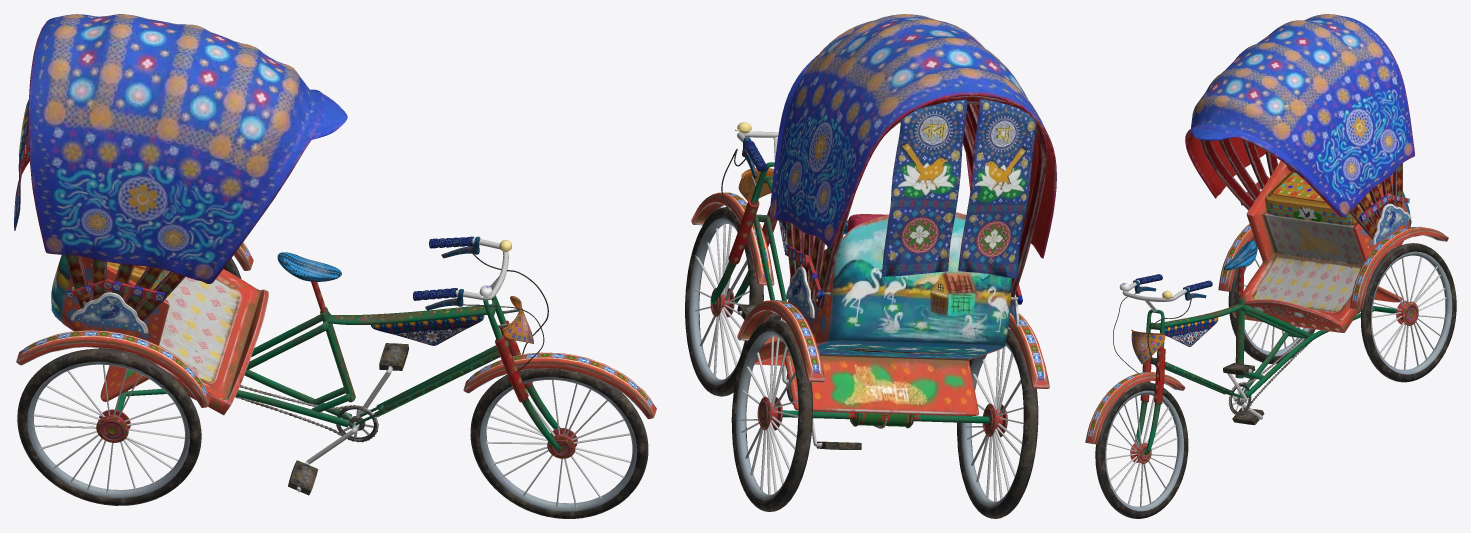
File: rickshaw.glb
3 renders of one model, left to right at view 1: azimuth 30°, elevation 25°; view 2: azimuth 150°, elevation 25°; view 3: azimuth 270°, elevation 25°, orthographic. The views are drawn at different scales.
Parts seen in each view (by area): view 1: canopy_lambert31_0, passenger_seat_lambert33_0, Chassis_lambert28_0, tire_lambert2_0 (×2), metalRim_lambert5_0 (×2), wires (×2), rightWheelCover_lambert13_0, frontWheelCover_lambert13_0, canopyBars_lambert32_0, right_decoration_lambert19_0, middle_decoration_lambert18_0, driver_seat_lambert7_0 (+4 smaller); view 2: canopy_lambert31_0, passenger_seat_lambert33_0, backCloth_lambert30_0, tire_lambert2_0 (×3), wires (×3), metalRim_lambert5_0 (×3), canopyBars_lambert32_0, Chassis_lambert28_0, leftWheelCover_lambert13_0, frontWheelCover_lambert13_0, rightWheelCover_lambert13_0, wheelcenter_lambert8_0 (×2) (+4 smaller); view 3: canopy_lambert31_0, passenger_seat_lambert33_0, tire_lambert2_0 (×3), Chassis_lambert28_0, canopyBars_lambert32_0, wires (×2), metalRim_lambert5_0 (×2), seatCushion_lambert20_0, leftWheelCover_lambert13_0, frontWheelCover_lambert13_0, middle_decoration_lambert18_0, left_decoration_lambert19_0 (+5 smaller).
Boxes of the visible parts, x1=… form: canopy_lambert31_0: x1=28, y1=14, x2=347, y2=283; passenger_seat_lambert33_0: x1=51, y1=255, x2=268, y2=415; Chassis_lambert28_0: x1=116, y1=281, x2=562, y2=450; tire_lambert2_0 (×2): x1=17, y1=348, x2=648, y2=518; metalRim_lambert5_0 (×2): x1=27, y1=362, x2=636, y2=511; wires (×2): x1=33, y1=365, x2=630, y2=508; rightWheelCover_lambert13_0: x1=16, y1=330, x2=210, y2=407; frontWheelCover_lambert13_0: x1=463, y1=352, x2=656, y2=419; canopyBars_lambert32_0: x1=65, y1=255, x2=185, y2=321; right_decoration_lambert19_0: x1=70, y1=292, x2=148, y2=333; middle_decoration_lambert18_0: x1=370, y1=315, x2=484, y2=345; driver_seat_lambert7_0: x1=277, y1=252, x2=341, y2=281; canopy_lambert31_0: x1=769, y1=14, x2=1056, y2=258; passenger_seat_lambert33_0: x1=754, y1=212, x2=1012, y2=415; backCloth_lambert30_0: x1=882, y1=99, x2=1036, y2=279; tire_lambert2_0 (×3): x1=685, y1=207, x2=1038, y2=518; wires (×3): x1=695, y1=224, x2=1023, y2=501; metalRim_lambert5_0 (×3): x1=689, y1=218, x2=1018, y2=507; canopyBars_lambert32_0: x1=786, y1=96, x2=1047, y2=309; Chassis_lambert28_0: x1=710, y1=162, x2=989, y2=423; leftWheelCover_lambert13_0: x1=737, y1=300, x2=825, y2=382; frontWheelCover_lambert13_0: x1=691, y1=192, x2=774, y2=285; rightWheelCover_lambert13_0: x1=1008, y1=313, x2=1049, y2=388; wheelcenter_lambert8_0 (×2): x1=757, y1=396, x2=1007, y2=437; canopy_lambert31_0: x1=1185, y1=14, x2=1414, y2=217; passenger_seat_lambert33_0: x1=1232, y1=161, x2=1411, y2=332; tire_lambert2_0 (×3): x1=1095, y1=237, x2=1456, y2=518; Chassis_lambert28_0: x1=1135, y1=267, x2=1396, y2=454; canopyBars_lambert32_0: x1=1200, y1=138, x2=1402, y2=239; wires (×2): x1=1105, y1=257, x2=1446, y2=506; metalRim_lambert5_0 (×2): x1=1105, y1=251, x2=1452, y2=511; seatCushion_lambert20_0: x1=1265, y1=171, x2=1379, y2=225; leftWheelCover_lambert13_0: x1=1350, y1=226, x2=1448, y2=309; frontWheelCover_lambert13_0: x1=1085, y1=372, x2=1185, y2=444; middle_decoration_lambert18_0: x1=1159, y1=317, x2=1218, y2=346; left_decoration_lambert19_0: x1=1372, y1=203, x2=1411, y2=244.
Size of the model in its own units: 5.25 by 5.06 by 4.6.
31 materials, 30 textured.
